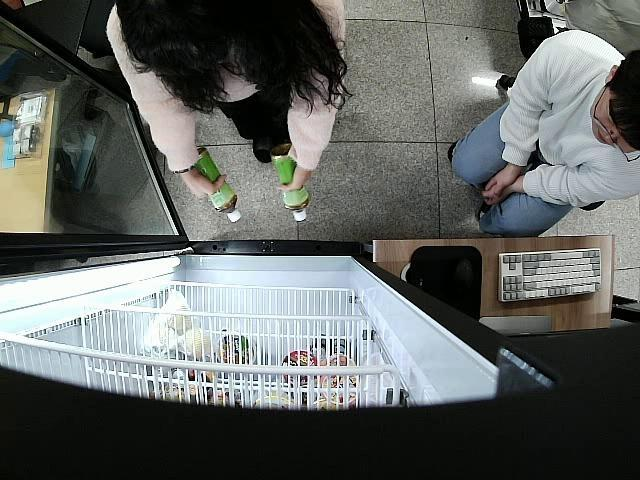19_17cha: (192, 147, 242, 224), (270, 144, 311, 222)
